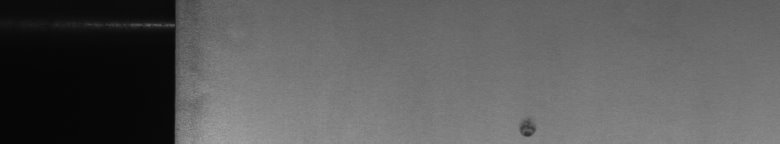fi: (516, 112, 540, 136)
